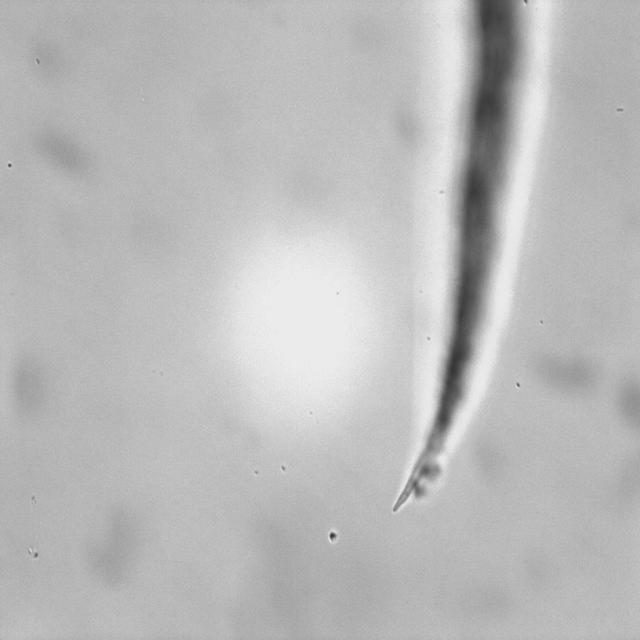Meloidogyne: (373, 384, 472, 524)
